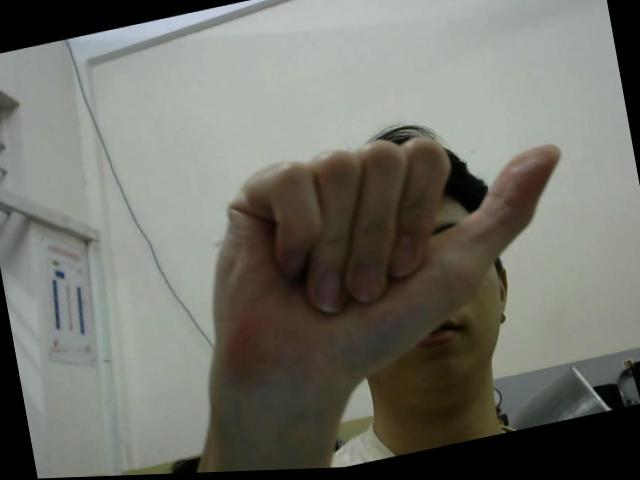A: (186, 105, 592, 401)
